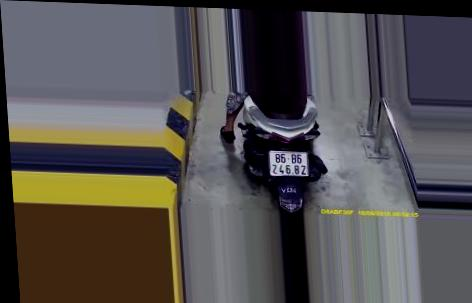License_Plate: (265, 146, 312, 180)
